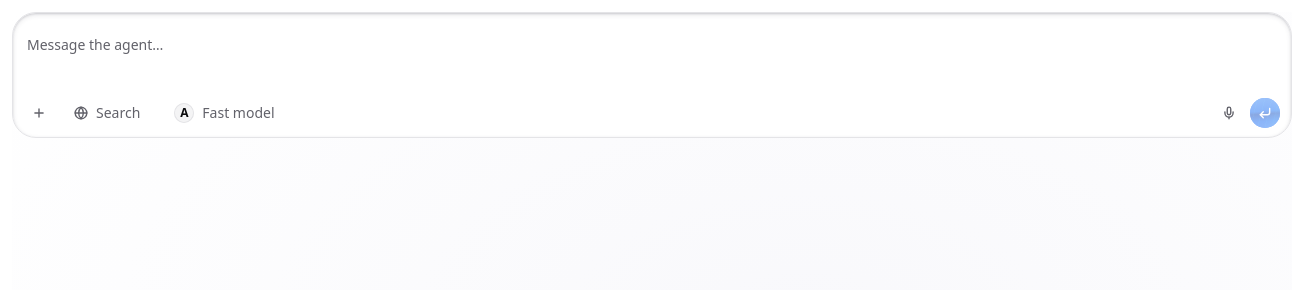
it: WorkspaceComposer — @ sources, / commands, skills and effort › offers skills in the + menu and writes the picked one into the message
The width and height of the screenshot is (1304, 290).
Click the button named "Add files, sources or skills" at (39, 113), box [23,97,55,129]
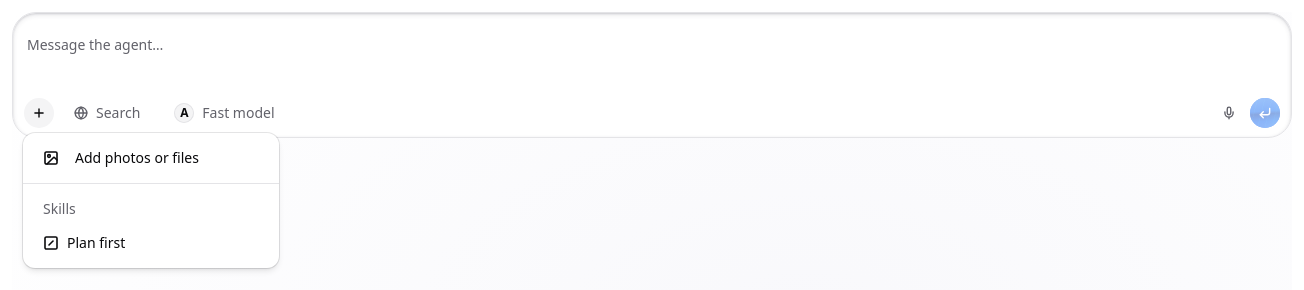
Click the menu item "Plan first" at (84, 242), box [43,233,125,252]
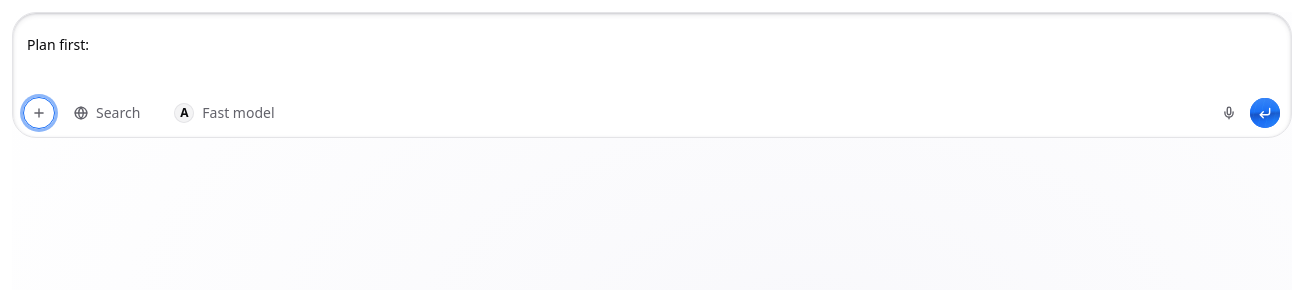
Expected: the text box named "Message" holds "Plan first: ", [13,27,1291,91]
